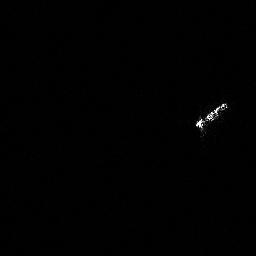ship: (192, 101, 228, 140)
